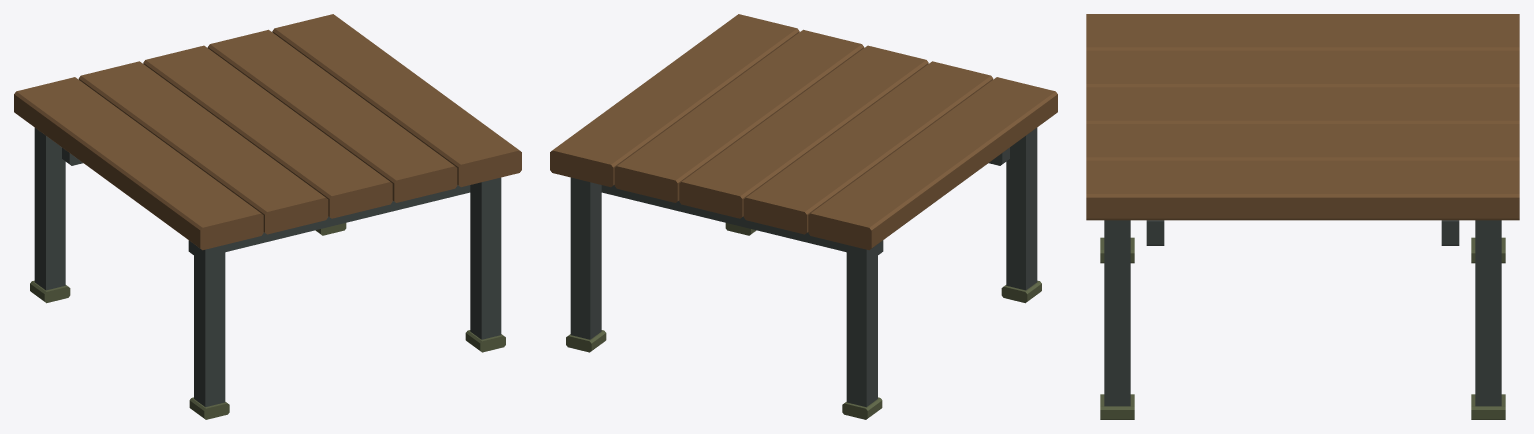
Rendered from Table.gltf.
The picture shows the model from 3 angles, left to right: view 1: azimuth 30°, elevation 25°; view 2: azimuth 150°, elevation 25°; view 3: azimuth 270°, elevation 25°; orthographic projection. The views are drawn at different scales.
Parts seen in each view (by area): view 1: Table; view 2: Table; view 3: Table.
Boxes of the visible parts, x1,y1,x2,y2 form: Table: (14,14,521,419); Table: (550,14,1057,419); Table: (1086,14,1519,419).
Size of the model in its own units: 0.896 by 0.53 by 0.9.
